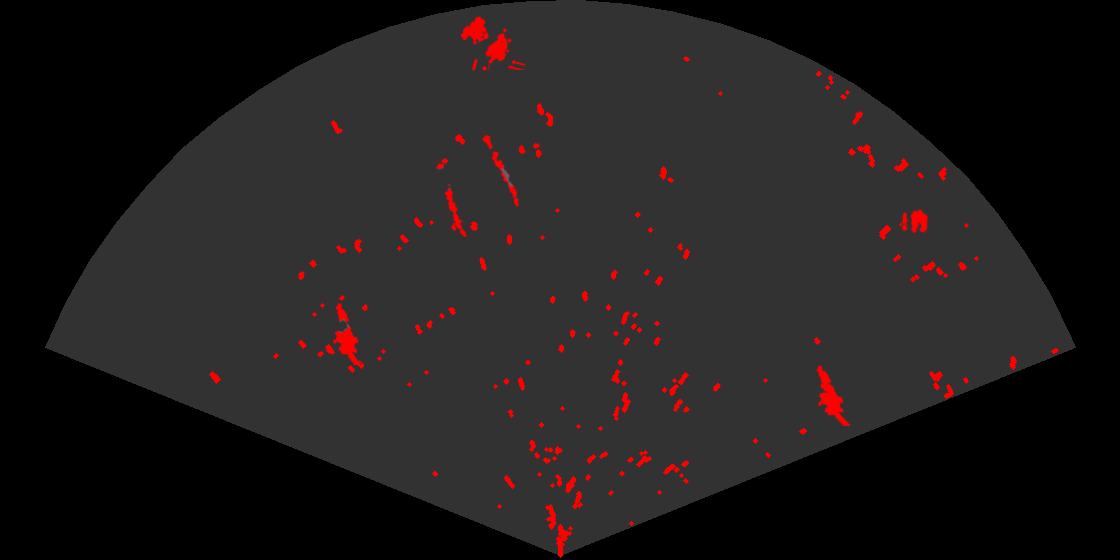ball: (900, 207, 930, 235)
cage: (459, 15, 525, 70)
chain: (479, 127, 521, 209), (435, 159, 468, 239)
frogman: (815, 364, 852, 426), (331, 301, 362, 365)
